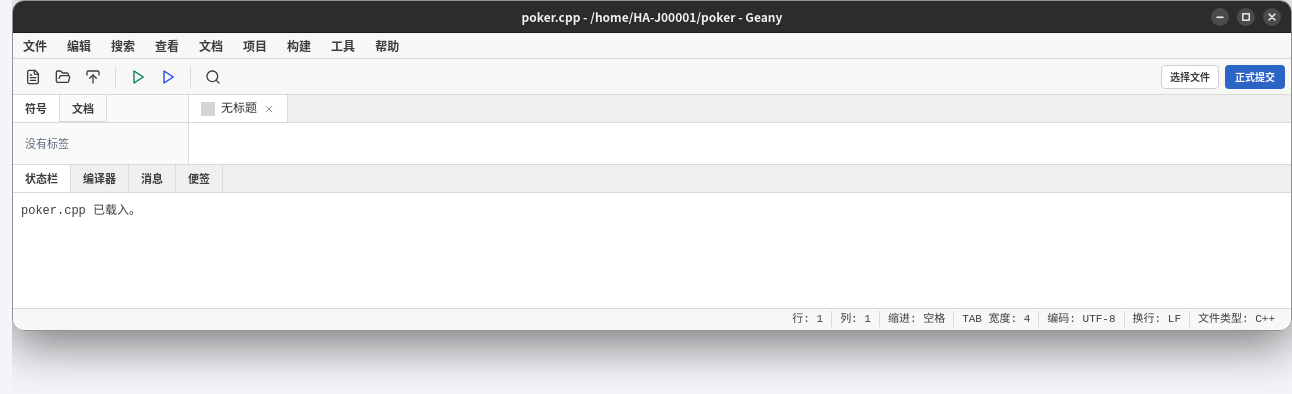
Test: GeanyWindow › 另存为：重名错误内联且不关窗，成功后关窗并切换
The width and height of the screenshot is (1292, 394).
未命名文档 Ctrl+S 弹出「保存文件」对话框
Press s
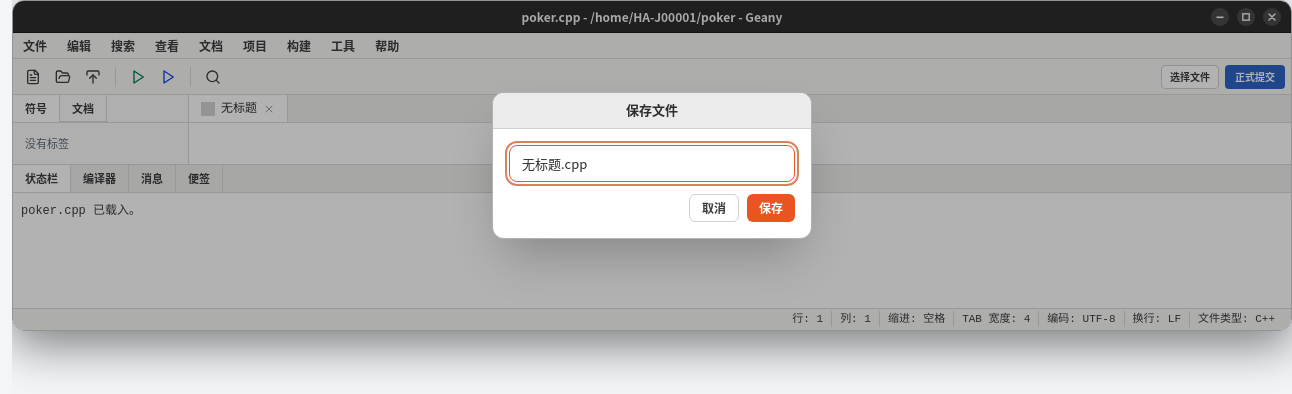
Replace the text in the field named "另存为文件名" with "sol.cpp": (652, 163) [509,144,795,182]
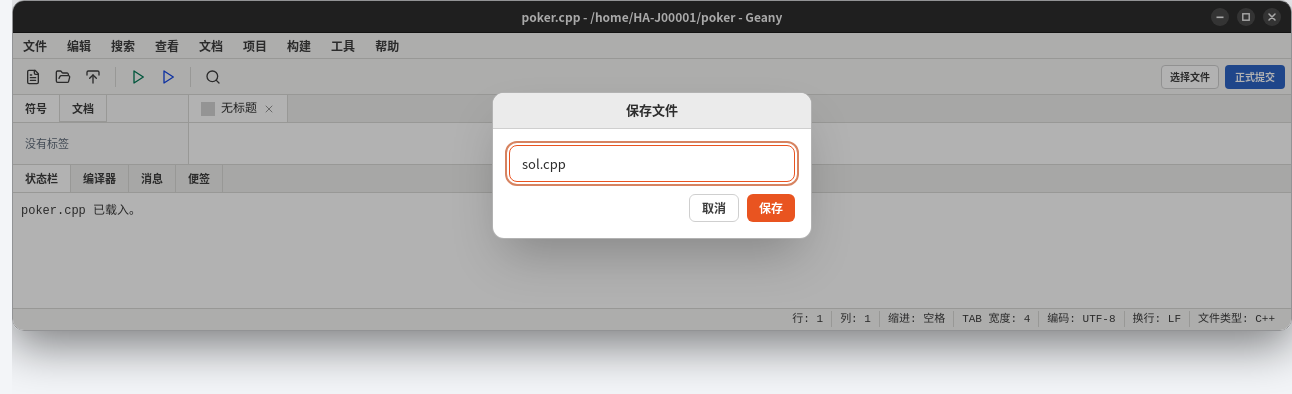
Click the button "保存": (771, 208) [747,194,795,222]
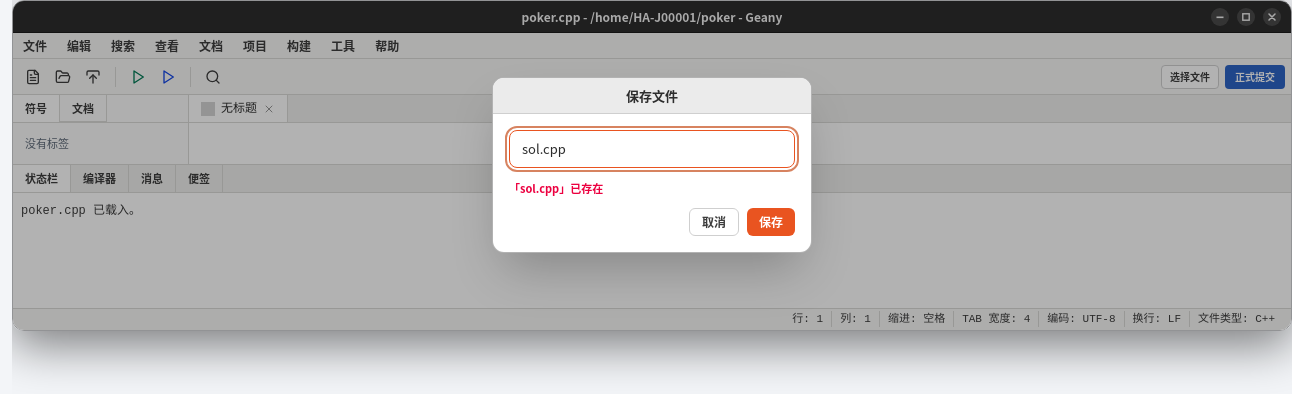
Now the text "「sol.cpp」已存在" is shown, box [509,180,603,196]
